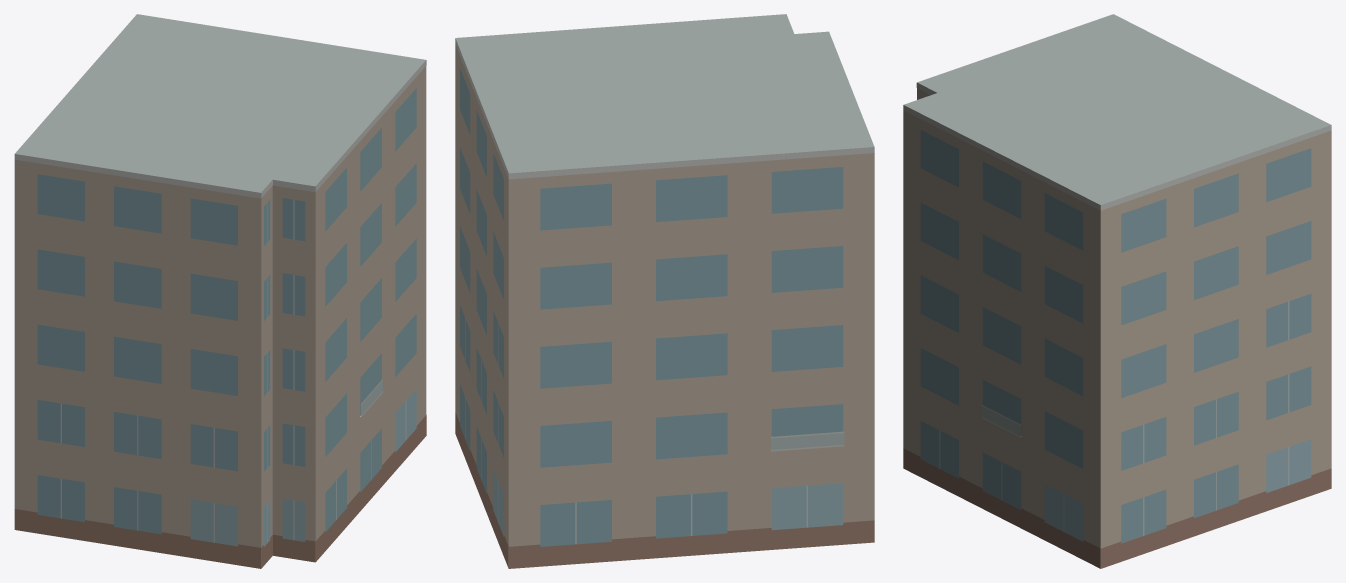
Rendered from survey-upis-32946915.glb.
The picture shows the model from 3 angles, left to right: view 1: azimuth 30°, elevation 25°; view 2: azimuth 150°, elevation 25°; view 3: azimuth 270°, elevation 25°; orthographic projection. The views are drawn at different scales.
Visible parts, largest first — view 1: survey-upis-32946915.tmp; view 2: survey-upis-32946915.tmp; view 3: survey-upis-32946915.tmp.
Part boxes in pixels (x1,y1,x2,y2): survey-upis-32946915.tmp: [14, 14, 426, 568]; survey-upis-32946915.tmp: [455, 14, 874, 568]; survey-upis-32946915.tmp: [903, 14, 1331, 568].
Size of the model in its own units: 18.16 by 16.1 by 17.19.
